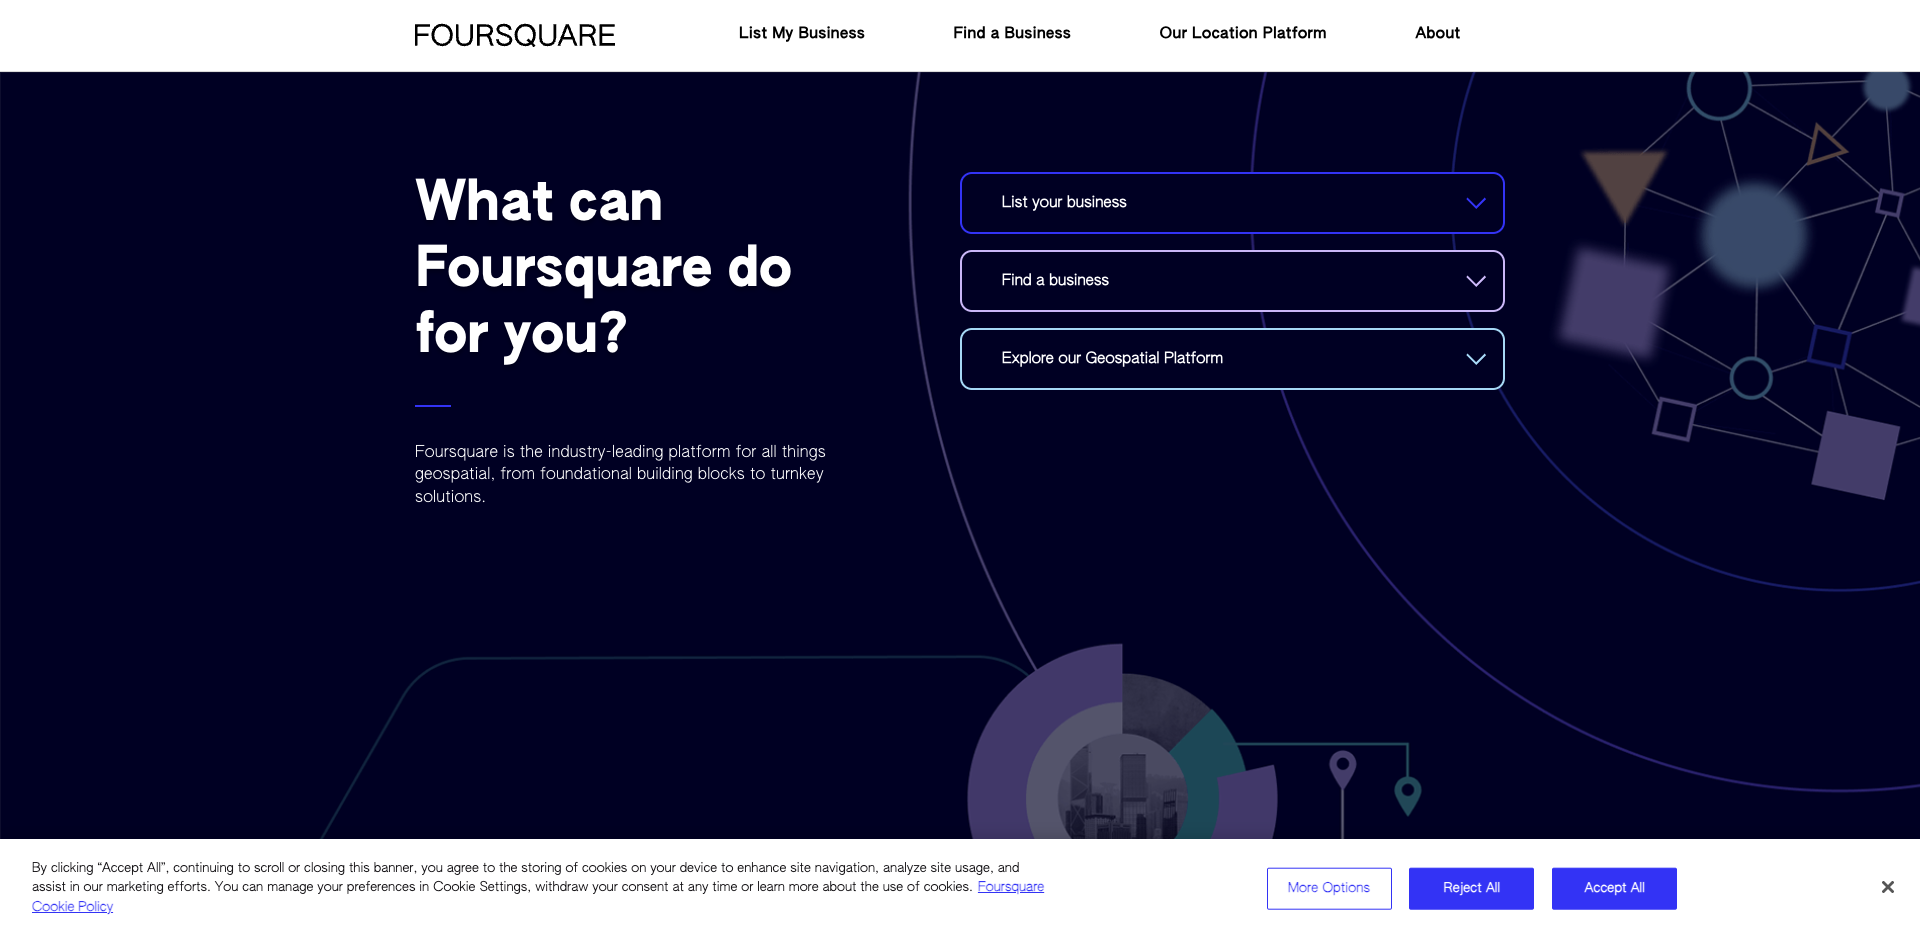button: (1056, 855, 1900, 925), (1266, 867, 1391, 909), (1409, 867, 1534, 909), (1553, 867, 1678, 909), (1866, 865, 1910, 909)
link: (32, 882, 1044, 914), (415, 23, 615, 48), (1160, 25, 1327, 43), (740, 25, 866, 43), (954, 25, 1071, 43), (1416, 25, 1461, 43)
menu_item: (1147, 0, 1338, 71), (727, 0, 877, 71), (942, 0, 1084, 71), (1403, 0, 1473, 71)
